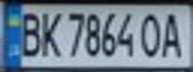4: (115, 9, 139, 58)
6: (100, 9, 121, 58)
7: (63, 8, 84, 57)
8: (81, 9, 103, 57)
A: (157, 9, 187, 60)
B: (15, 8, 45, 59)
K: (36, 7, 63, 58)
O: (136, 10, 166, 58)
